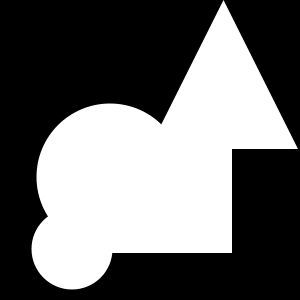circle: (108, 129, 232, 253)
rectangle: (36, 103, 183, 250), (31, 208, 112, 290)
triangle: (149, 0, 298, 149)
